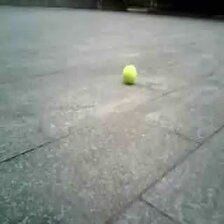tennis: (123, 65, 138, 82)
